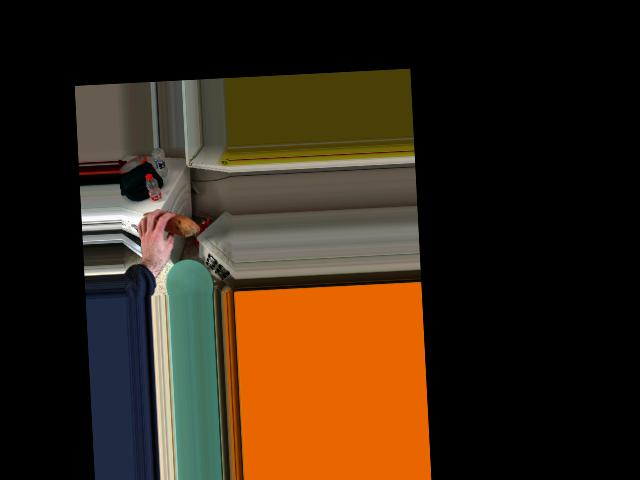sweet_potato: (139, 208, 198, 237)
